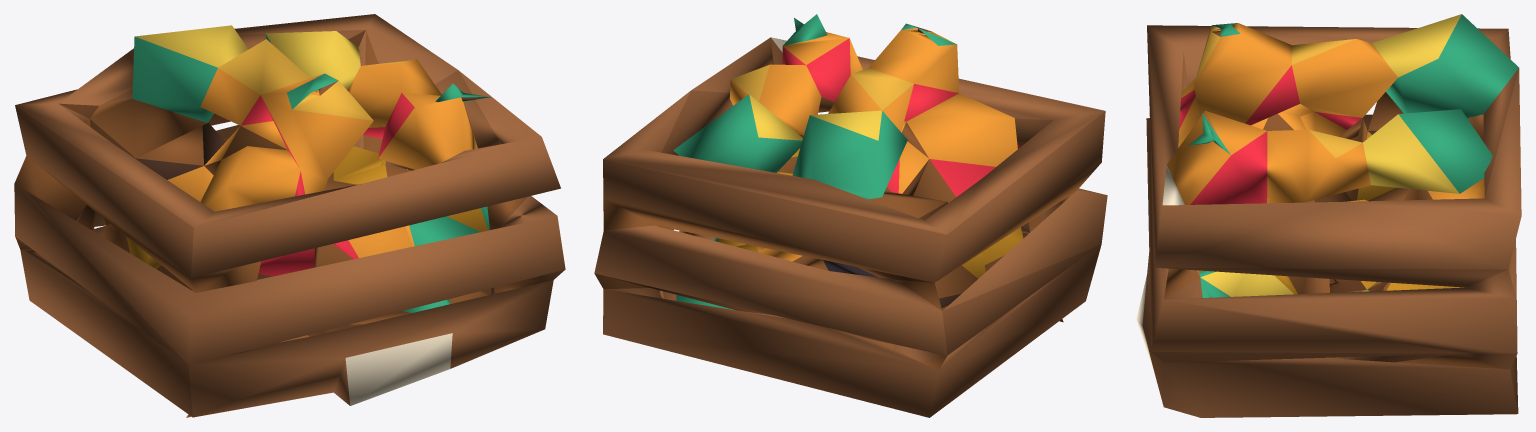
Rendered from SM_crate_oranges.fbx.
The picture shows the model from 3 angles, left to right: view 1: azimuth 30°, elevation 25°; view 2: azimuth 150°, elevation 25°; view 3: azimuth 270°, elevation 25°; orthographic projection. The views are drawn at different scales.
Parts seen in each view (by area): view 1: SM_crate_oranges; view 2: SM_crate_oranges; view 3: SM_crate_oranges.
Boxes of the visible parts, x1,y1,x2,y2 form: SM_crate_oranges: [14, 14, 565, 417]; SM_crate_oranges: [594, 14, 1107, 417]; SM_crate_oranges: [1136, 14, 1521, 417].
Size of the model in its own units: 53.51 by 40 by 45.82.
1 material, 1 textured.
